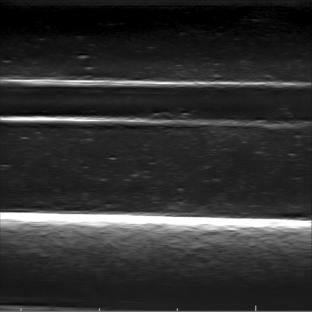vessel: (3, 79, 308, 128)
